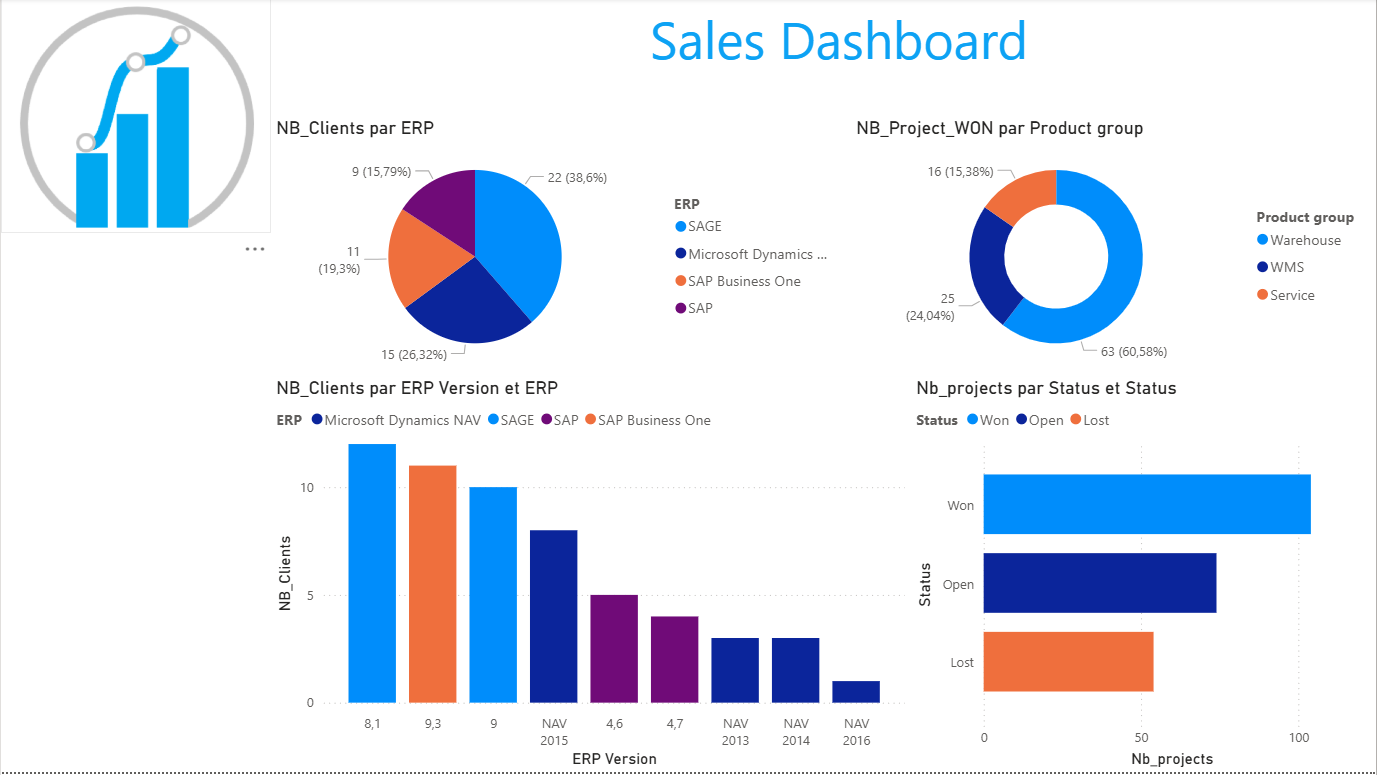

Layout of this report page (visuals, bound fields, positions):
{"tool":"powerbi","page":{"name":"Visualization 1","canvas":[1280,720],"ordinal":0},"visuals":[{"type":"pieChart","fields":{"Y":["Company.NB_Clients"],"Category":["Company.ERP"]},"box":[251.5,110.7,538.9,241.4],"z":0},{"type":"columnChart","fields":{"Y":["Company.NB_Clients"],"Category":["Company.ERP Version"],"Series":["Company.ERP"]},"box":[251.5,352.1,595,367.9],"z":1000},{"type":"barChart","fields":{"Category":["Project.Status"],"Y":["Project.Nb_projects"],"Series":["Project.Status"]},"box":[846.5,352.1,434,367.9],"z":2000},{"type":"donutChart","fields":{"Y":["Project.NB_Project_WON"],"Category":["Project.Product group"]},"box":[790.4,110.7,490.1,241.4],"z":3000},{"type":"textbox","box":[599.3,0,380.8,99.2],"z":4000},{"type":"image","box":[0,0,251.5,218.4],"z":5000}]}

Visuals, with their boxes in screenshot pixels (x1, y1, x2, y2), scaled from the page's 1280x720 canvas onto the 1377x775 screenshot:
pieChart - Company.NB_Clients x Company.ERP: (x1=271, y1=119, x2=850, y2=379)
columnChart - Company.NB_Clients x Company.ERP Version: (x1=271, y1=379, x2=911, y2=774)
barChart - Project.Status x Project.Nb_projects: (x1=911, y1=379, x2=1376, y2=774)
donutChart - Project.NB_Project_WON x Project.Product group: (x1=850, y1=119, x2=1376, y2=379)
textbox: (x1=645, y1=0, x2=1054, y2=107)
image: (x1=0, y1=0, x2=271, y2=235)
